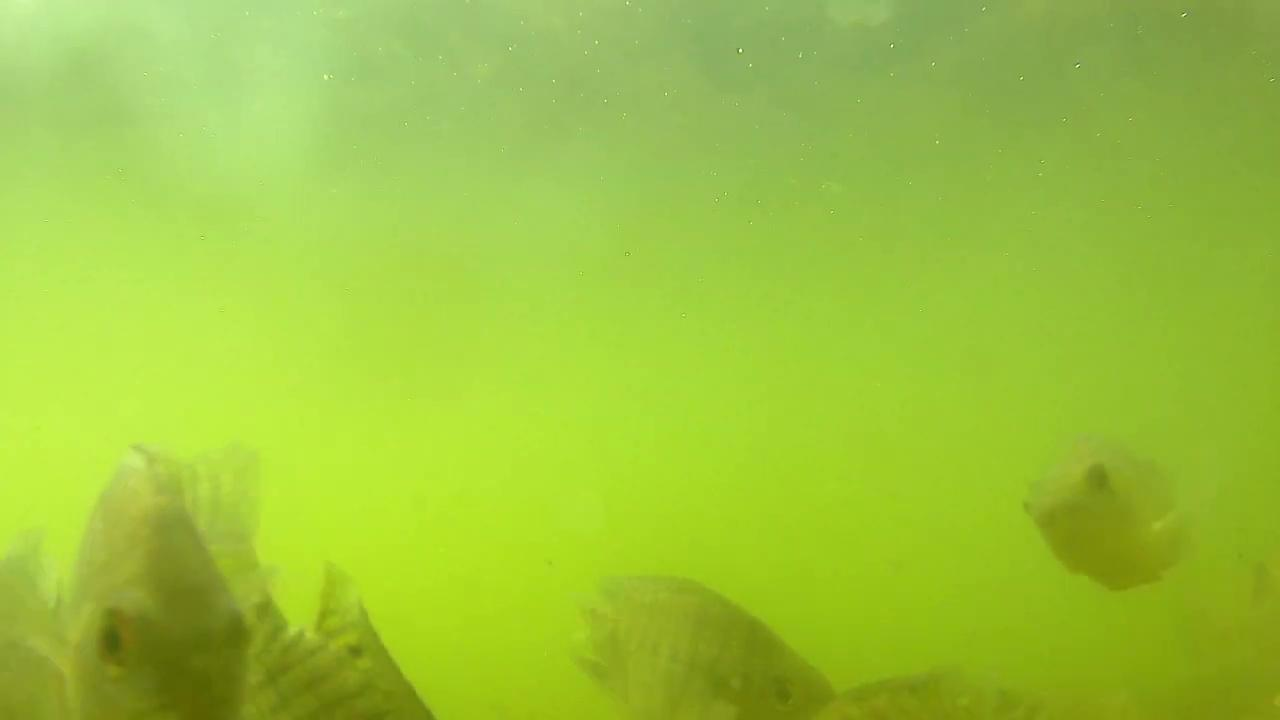Tilapia: (47, 448, 255, 720), (1009, 422, 1194, 592)
